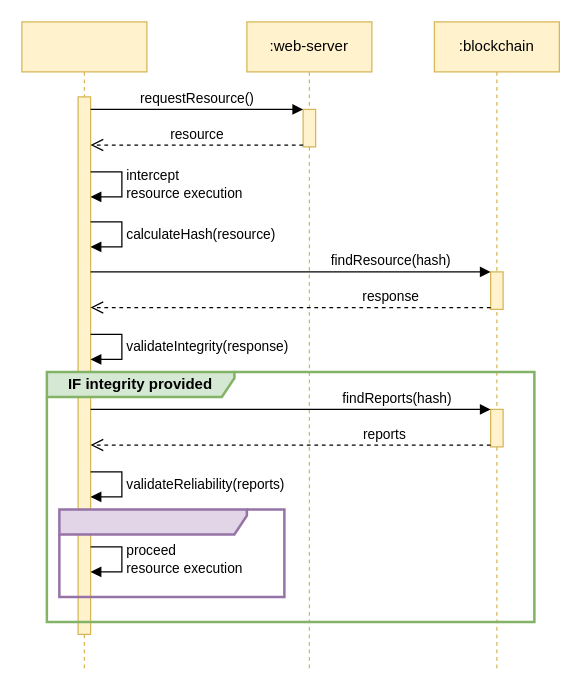
Some shapes in this 581 by 694 pixel diagram are drawn without their labels. Here are the shapes that lost their labels. From the top down, the centre of each, then its label:
[84,346]: :browser
[171,553]: IF reliability provided
